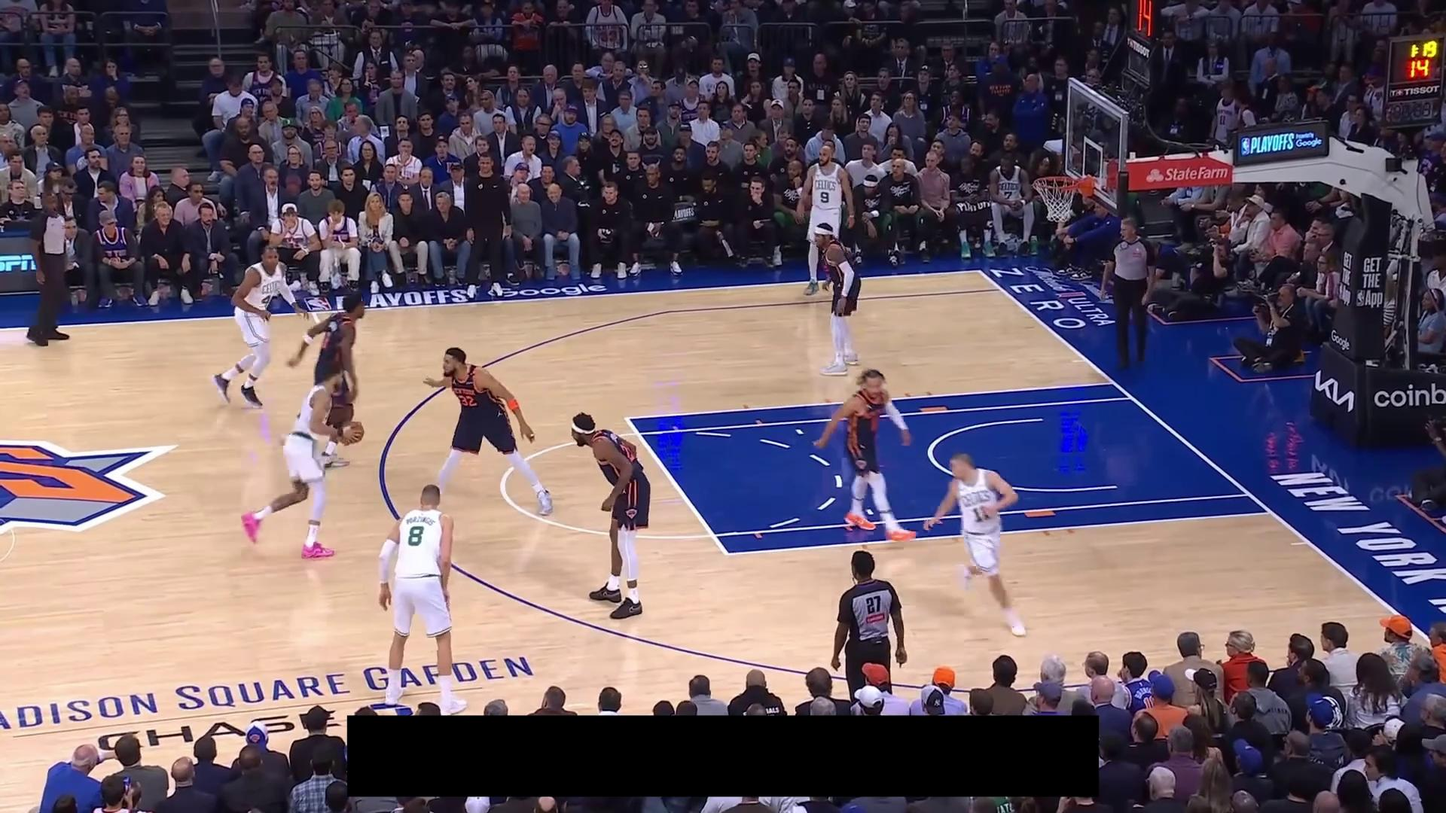ball: (343, 421, 365, 444)
number: (407, 525, 426, 547), (972, 504, 990, 523), (459, 393, 476, 408), (819, 190, 831, 205)
player: (421, 346, 555, 519), (377, 483, 468, 715), (923, 451, 1028, 638), (812, 367, 919, 544), (570, 411, 651, 620), (210, 243, 310, 409), (285, 292, 367, 471), (796, 142, 856, 297), (811, 221, 863, 377)
player-in-possession: (242, 362, 366, 560)
referee: (831, 549, 908, 702), (1099, 215, 1158, 370), (24, 190, 73, 347)
rim: (1033, 175, 1080, 190)
